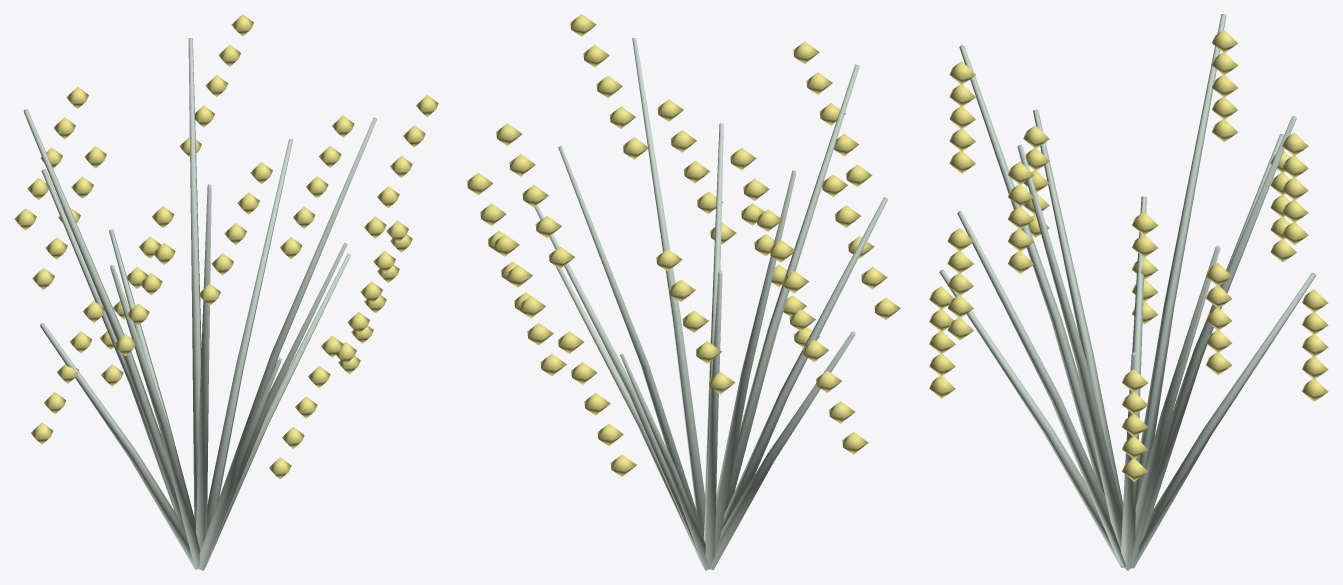
Rendered from flower_wormwood.glb.
3 views of the same model, side by side, from view 1: azimuth 30°, elevation 25°; view 2: azimuth 150°, elevation 25°; view 3: azimuth 270°, elevation 25° (orthographic). The views are drawn at different scales.
Parts seen in each view (by area): view 1: Flora_Wormwood; view 2: Flora_Wormwood; view 3: Flora_Wormwood.
Part boxes in pixels (x1,y1,x2,y2): Flora_Wormwood: [14, 14, 438, 570]; Flora_Wormwood: [467, 14, 900, 570]; Flora_Wormwood: [929, 14, 1328, 570].
Size of the model in its own units: 0.8688 by 1.03 by 0.7494.
